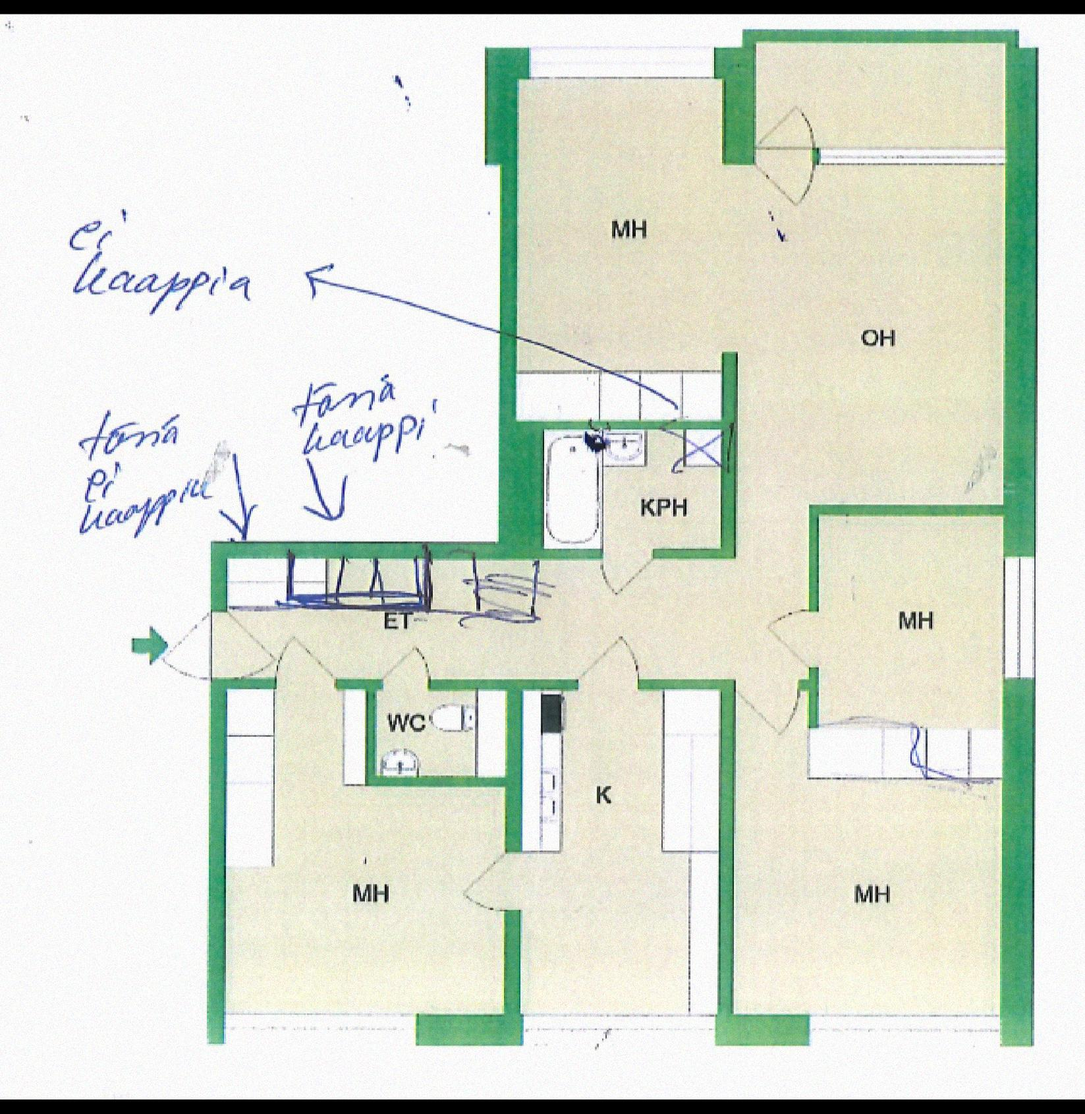door: (749, 99, 821, 216), (160, 617, 259, 678), (456, 851, 523, 917), (737, 677, 805, 730), (582, 631, 637, 692), (274, 642, 343, 689), (766, 609, 816, 664), (596, 549, 649, 595), (378, 646, 429, 688)
window: (519, 1009, 718, 1050), (811, 1011, 1002, 1044), (229, 1013, 418, 1046), (999, 553, 1032, 681)
zone: (222, 62, 998, 1011), (225, 685, 518, 1011), (521, 683, 726, 1006), (816, 513, 1005, 775), (758, 39, 1008, 152), (541, 430, 723, 551), (377, 684, 508, 769)
